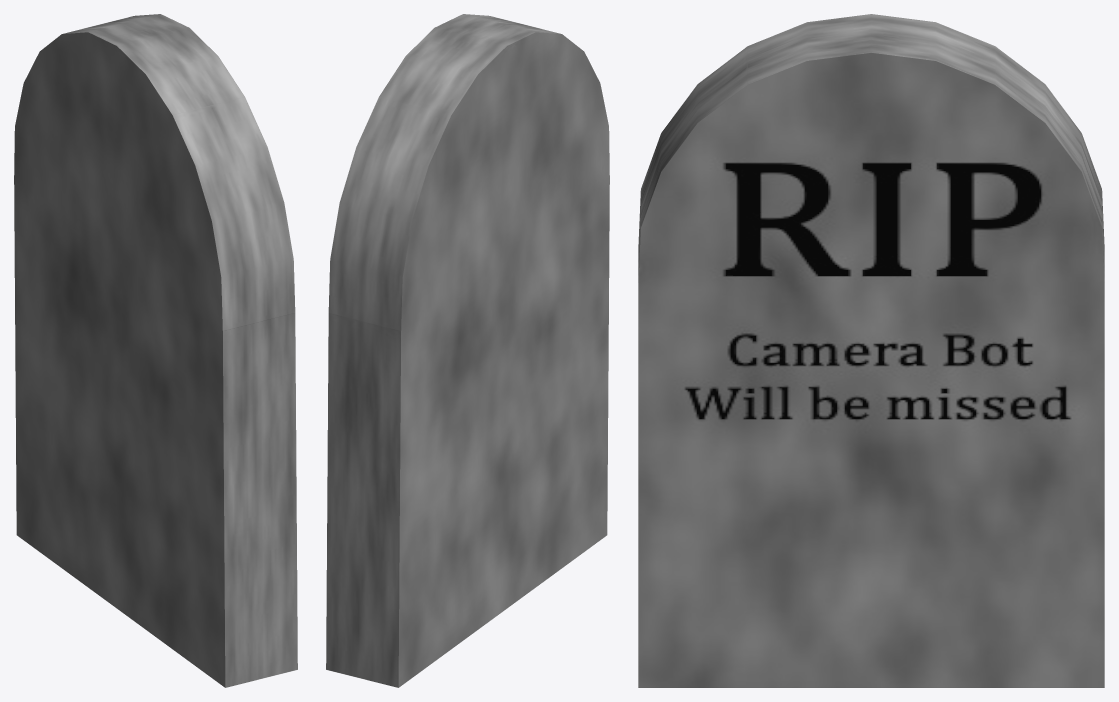
The model's file is Gravestone camerabot.dae.
The picture shows the model from 3 angles, left to right: view 1: azimuth 30°, elevation 25°; view 2: azimuth 150°, elevation 25°; view 3: azimuth 270°, elevation 25°; orthographic projection. The views are drawn at different scales.
Parts seen in each view (by area): view 1: SketchUp; view 2: SketchUp; view 3: SketchUp.
Part boxes in pixels (bbox=[...]): SketchUp: bbox=[14, 14, 297, 687]; SketchUp: bbox=[326, 14, 609, 687]; SketchUp: bbox=[638, 14, 1104, 687].
Size of the model in its own units: 0.0341 by 0.161 by 0.2413.
Materials: 1 (1 with a texture image).
